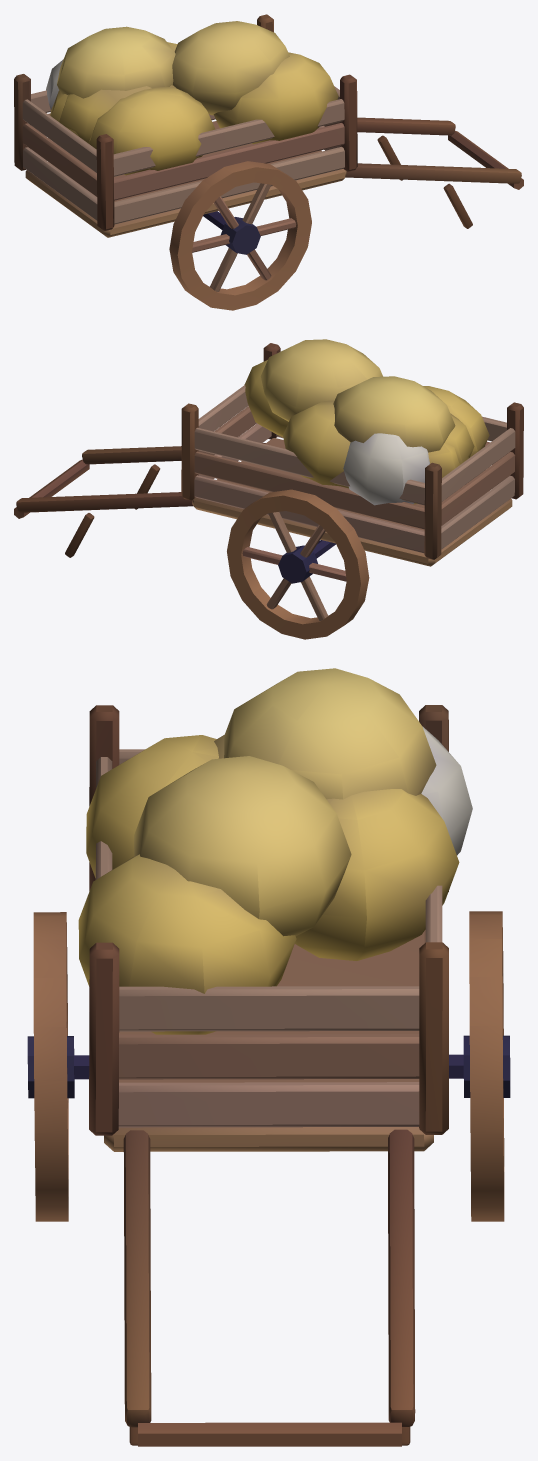
The model's file is common_town_cart.glb.
3 views of the same model, one above another, from view 1: azimuth 30°, elevation 25°; view 2: azimuth 150°, elevation 25°; view 3: azimuth 270°, elevation 25° (orthographic). The views are drawn at different scales.
Parts seen in each view (by area): view 1: common_town_cart; view 2: common_town_cart; view 3: common_town_cart.
Part boxes in pixels (x1,y1,x2,y2): common_town_cart: [14, 14, 523, 310]; common_town_cart: [14, 339, 523, 639]; common_town_cart: [27, 668, 510, 1446].
Bounding box in the file's own units: 3.04 × 1.57 × 1.46.
